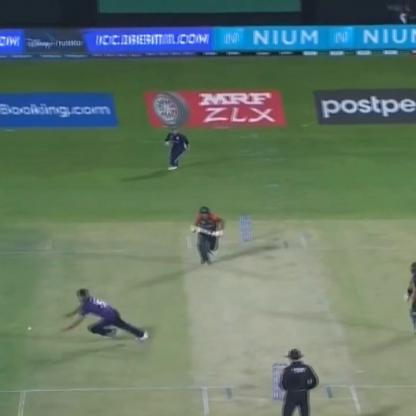ball: (22, 317, 39, 336)
pitch: (183, 224, 365, 416)
